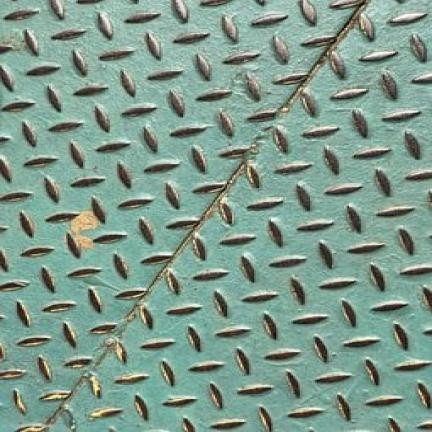besi_tidak_karat: (3, 0, 432, 432)
